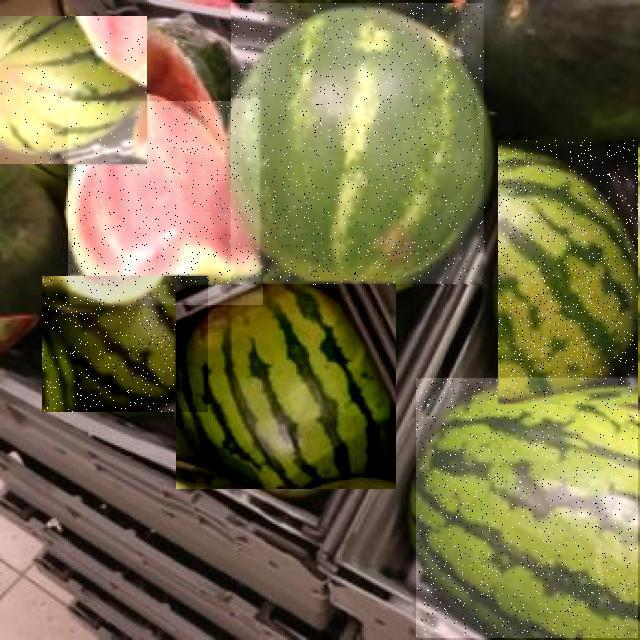Watermelon: (232, 4, 486, 286), (416, 379, 638, 639), (176, 285, 396, 489), (68, 101, 263, 305), (499, 140, 639, 404), (42, 276, 208, 412), (0, 16, 147, 164)
